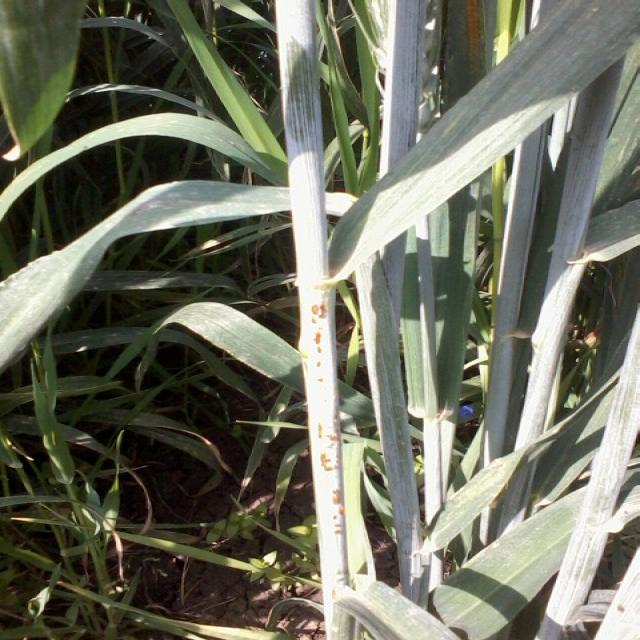wheat-stemrust: (331, 489, 344, 535), (315, 421, 342, 443), (322, 453, 339, 472), (311, 305, 327, 325), (311, 331, 322, 354)
